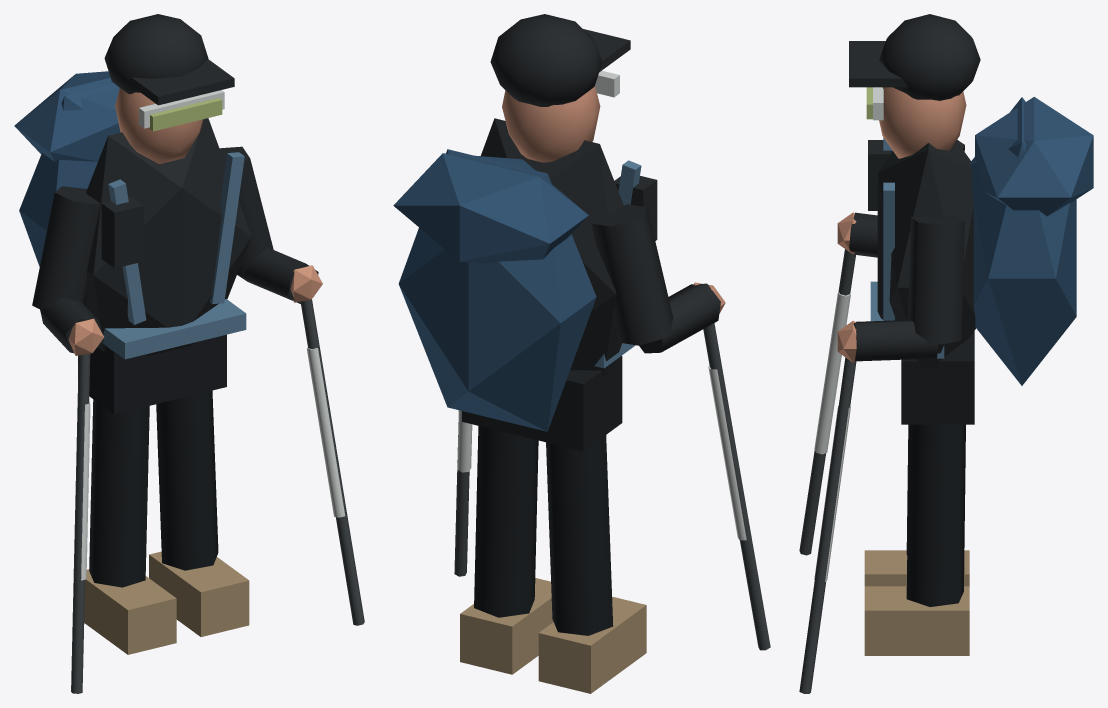
Rendered from walker.glb.
3 views of the same model, side by side, from view 1: azimuth 30°, elevation 25°; view 2: azimuth 150°, elevation 25°; view 3: azimuth 270°, elevation 25° (orthographic). The views are drawn at different scales.
Parts seen in each view (by area): view 1: Hiker, LegLeft, LegRight, ArmLeft, ArmRight; view 2: Hiker, LegLeft, LegRight, ArmLeft, ArmRight; view 3: Hiker, LegRight, ArmRight, ArmLeft, LegLeft.
Part boxes in pixels (x1,y1,x2,y2): Hiker: (14, 14, 251, 414); LegLeft: (84, 394, 176, 654); LegRight: (149, 390, 249, 636); ArmLeft: (32, 186, 104, 693); ArmRight: (219, 146, 364, 625); Hiker: (393, 14, 657, 451); LegLeft: (538, 425, 646, 693); LegRight: (460, 426, 553, 674); ArmLeft: (591, 204, 770, 650); ArmRight: (454, 410, 472, 576); Hiker: (849, 14, 1093, 424); LegRight: (864, 416, 969, 655); ArmRight: (799, 215, 964, 693); ArmLeft: (799, 139, 964, 555); LegLeft: (864, 424, 969, 586).
Bounding box in the file's own units: 0.5053 × 0.987 × 0.4342.
